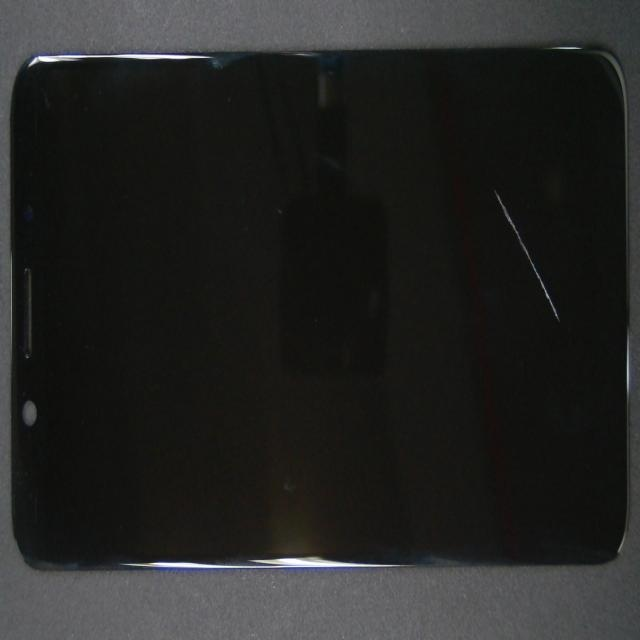scratch: (263, 59, 640, 249)
